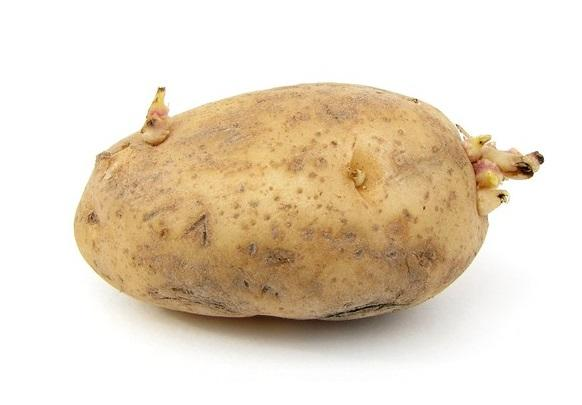potato: (83, 44, 492, 210)
